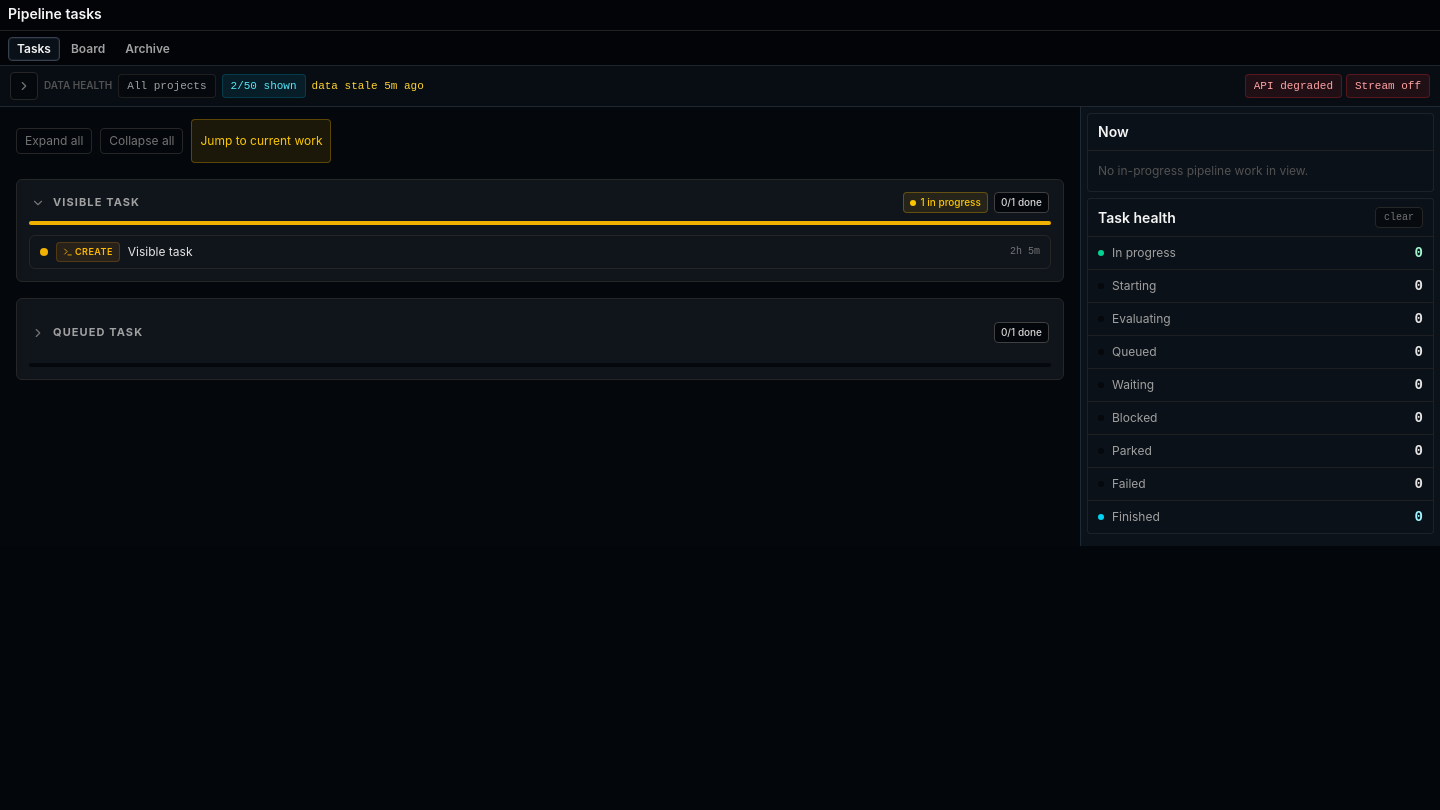
PipelineWorkspace status strip › keeps degraded API separate from fetch staleness and renders disconnected websocket state
Expected: the text "API degraded" is shown, 1254,79 -> 1333,93
Expected: the text "data stale 5m ago" is shown, 312,79 -> 424,93
Click the button titled "Show data details": coordinates (24, 86) 10,72 -> 38,100
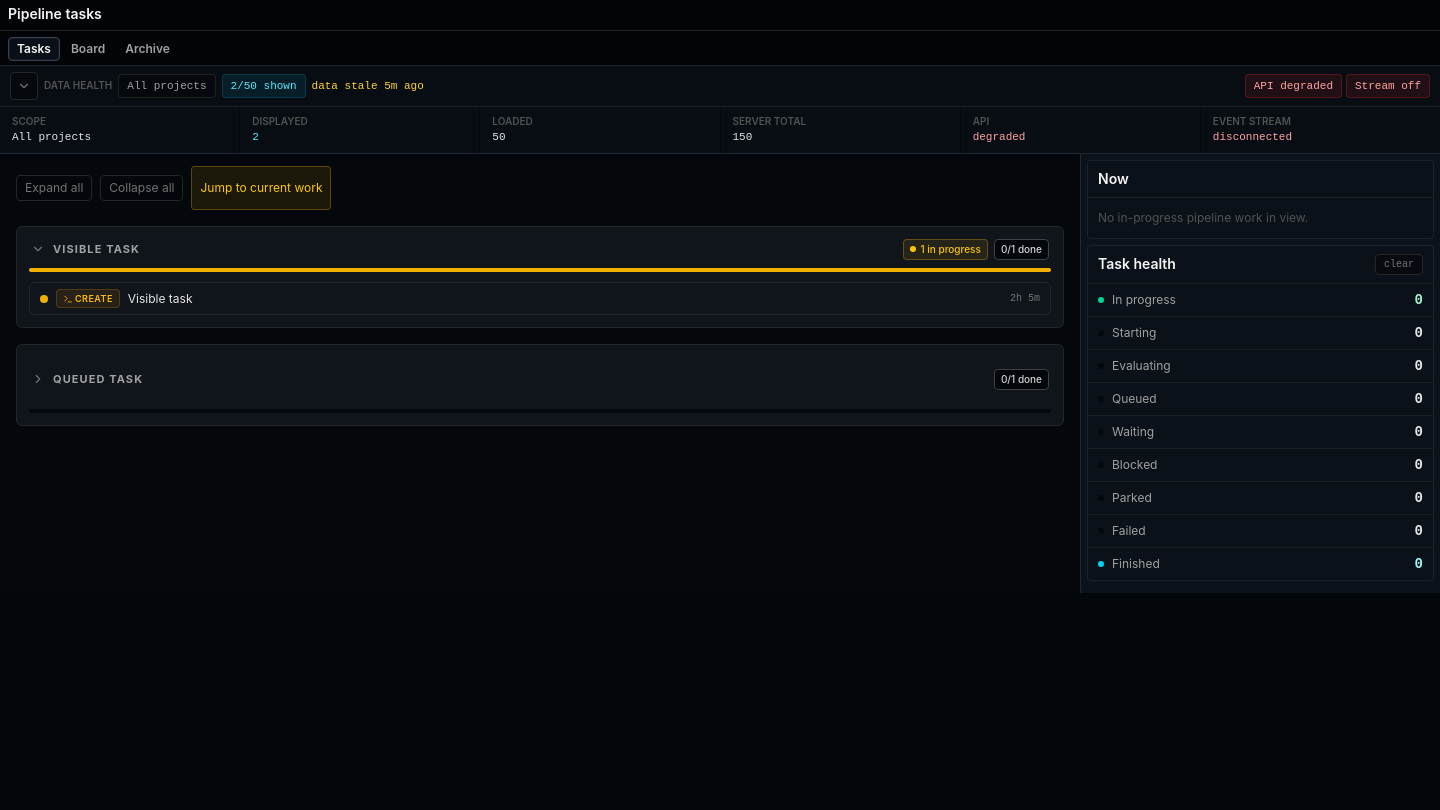
Expected: the text "disconnected" is shown, 1213,131 -> 1292,143
